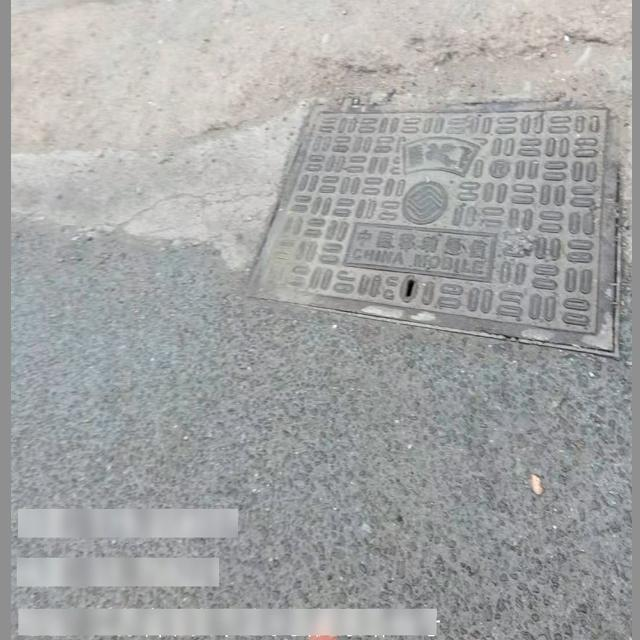good: (239, 102, 621, 364)
